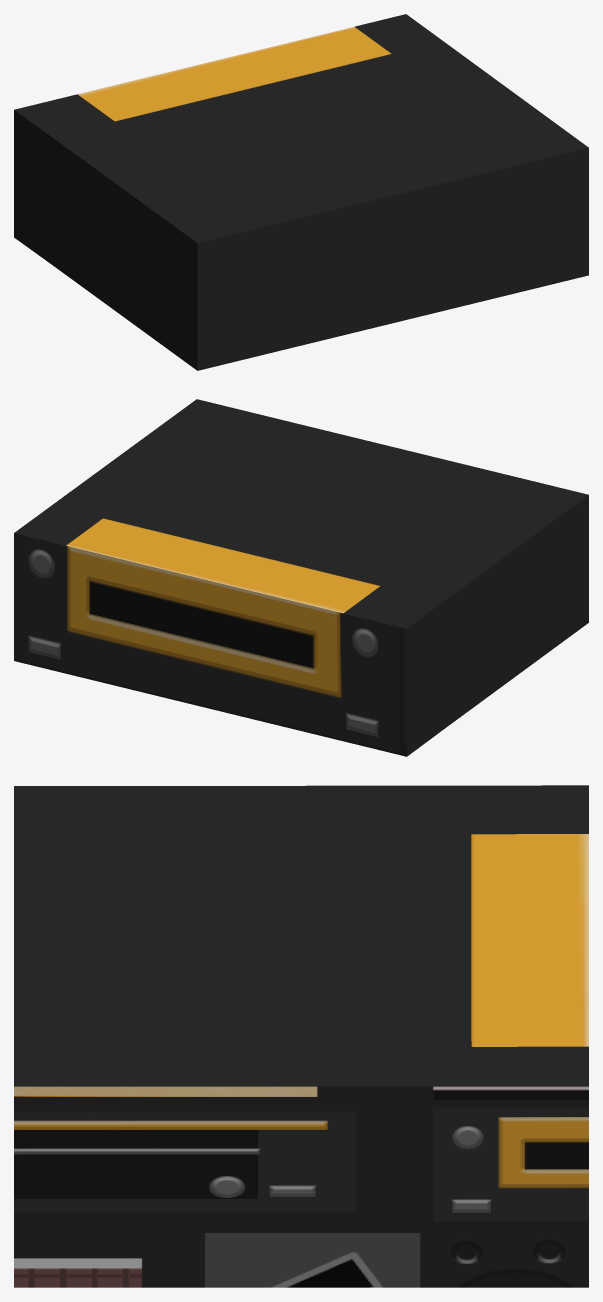
The model's file is Small_Amp_Speaker_01.FBX.
3 renders of one model, top to bottom at view 1: azimuth 30°, elevation 25°; view 2: azimuth 150°, elevation 25°; view 3: azimuth 270°, elevation 25°, orthographic. The views are drawn at different scales.
Parts seen in each view (by area): view 1: Small_Amp_Speaker_01; view 2: Small_Amp_Speaker_01; view 3: Small_Amp_Speaker_01.
Part boxes in pixels (x1=…): Small_Amp_Speaker_01: x1=14, y1=14, x2=588, y2=370; Small_Amp_Speaker_01: x1=14, y1=399, x2=588, y2=756; Small_Amp_Speaker_01: x1=14, y1=785, x2=588, y2=1287.
Bounding box in the file's own units: 3.17 × 0.9862 × 2.56.
